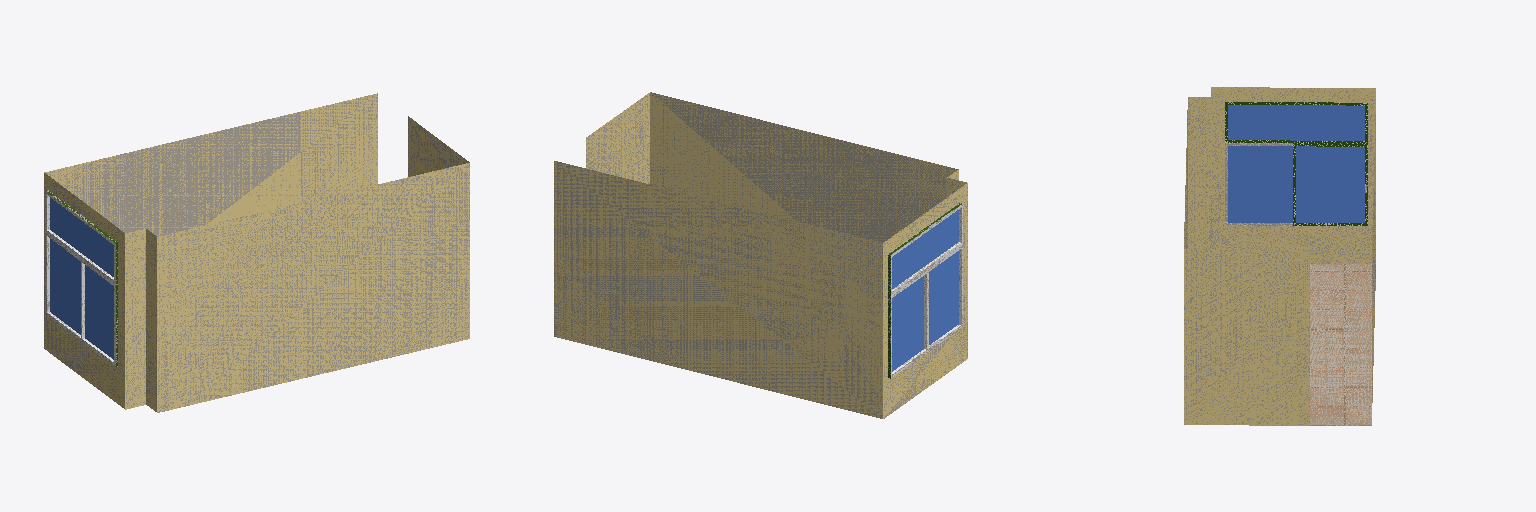
3 renders of one model, left to right at view 1: azimuth 30°, elevation 25°; view 2: azimuth 150°, elevation 25°; view 3: azimuth 270°, elevation 25°, orthographic.
Parts seen in each view (by area): view 1: Mesh7 DES030 Model, Mesh1 ventana1_1_1 DES030 Model; view 2: Mesh7 DES030 Model, Mesh1 ventana1_1_1 DES030 Model; view 3: Mesh7 DES030 Model, Mesh1 ventana1_1_1 DES030 Model.
Part boxes in pixels (x1,y1,x2,y2): Mesh7 DES030 Model: (44, 93, 469, 412); Mesh1 ventana1_1_1 DES030 Model: (46, 190, 117, 366); Mesh7 DES030 Model: (554, 92, 967, 418); Mesh1 ventana1_1_1 DES030 Model: (888, 203, 962, 378); Mesh7 DES030 Model: (1184, 87, 1375, 425); Mesh1 ventana1_1_1 DES030 Model: (1225, 102, 1367, 225).
Size of the model in its own units: 5.98 by 3 by 2.97.
7 materials, 1 textured.